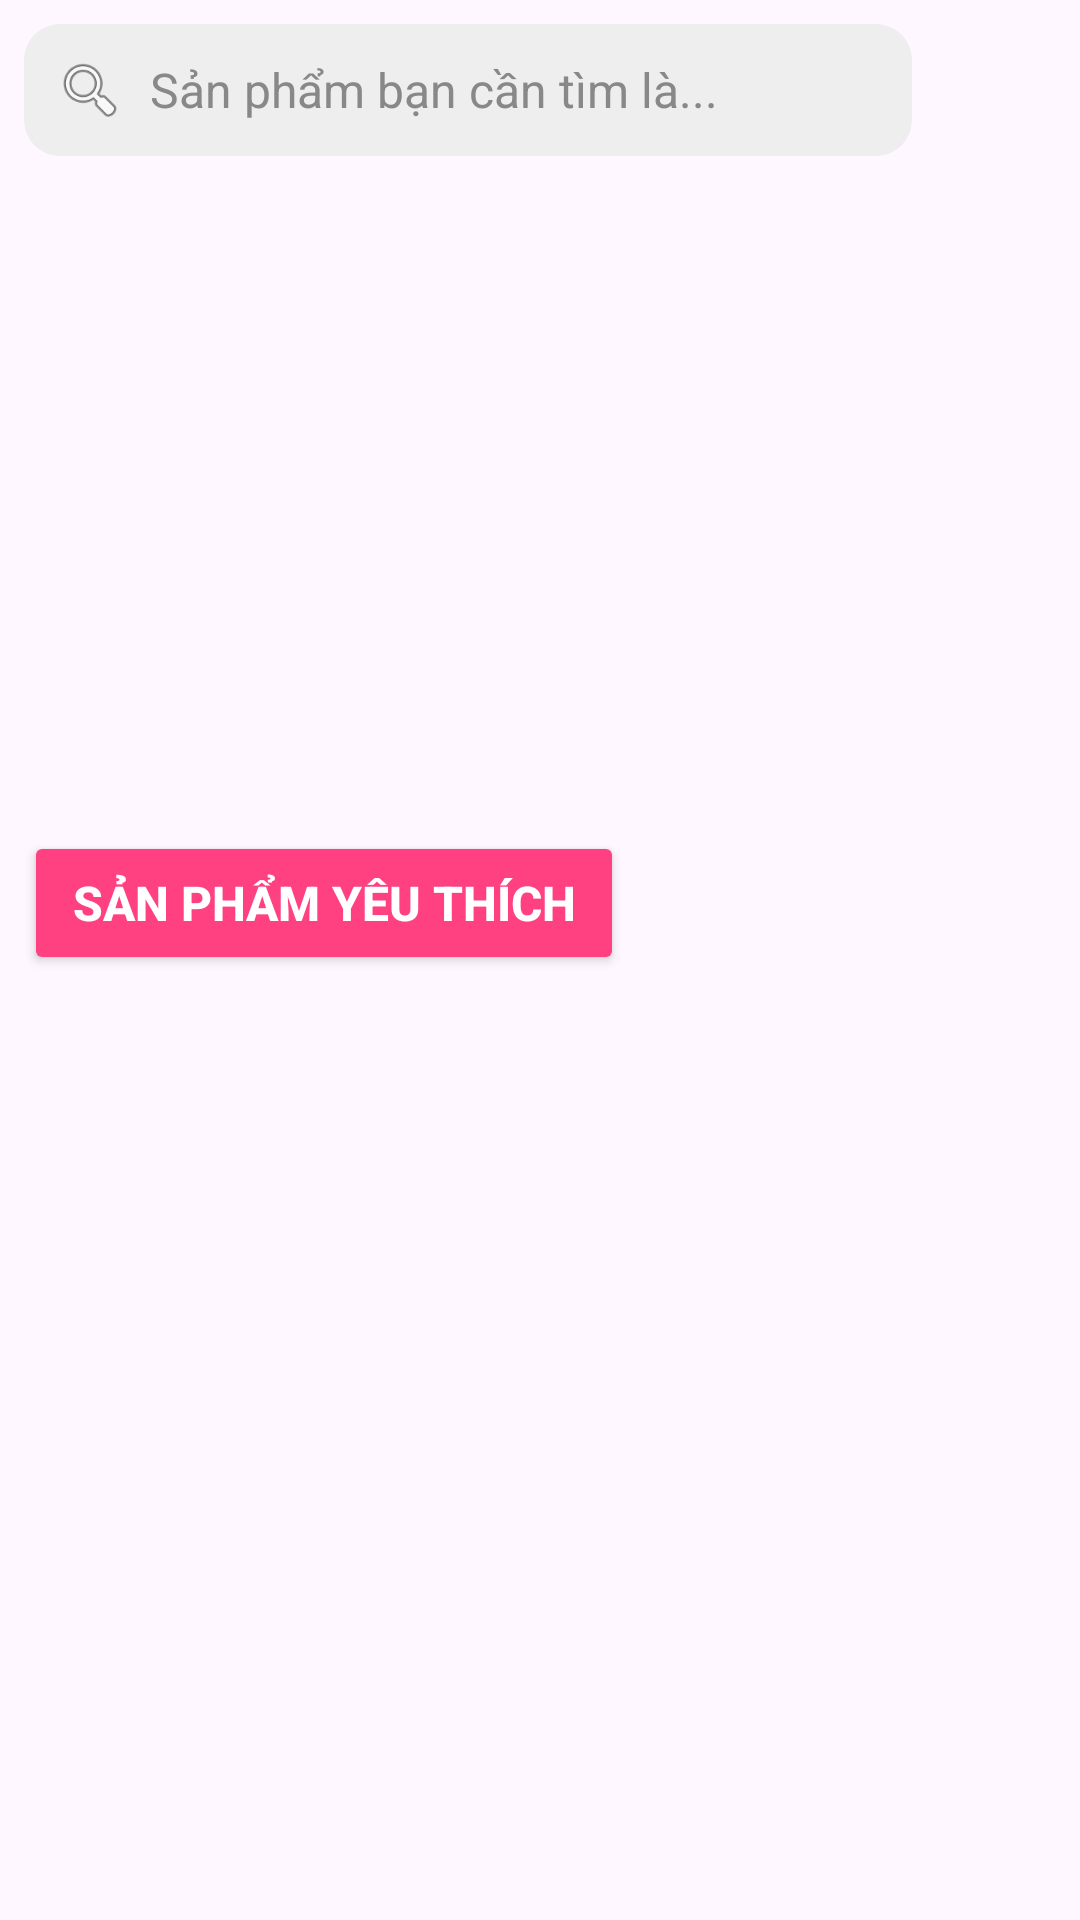

Where icons sit on this 1080 × 1920 app screen, as (x1, y1, x2, y2):
search: (63, 64, 117, 117)
